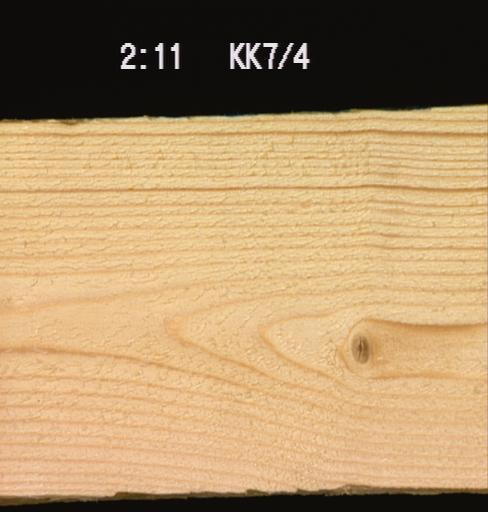sound_knot: (348, 330, 371, 366)
wave: (304, 470, 442, 494)
